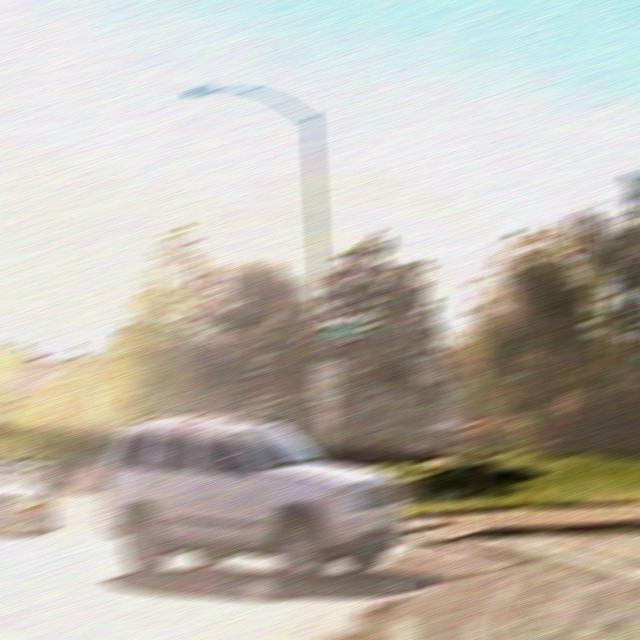speedLimit35: (308, 358, 341, 404)
